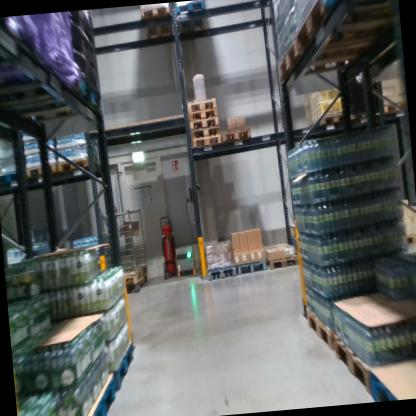pallet: (269, 24, 396, 78), (294, 0, 398, 59), (0, 68, 108, 122), (326, 317, 397, 399), (135, 3, 180, 49), (76, 370, 121, 416), (303, 300, 335, 361), (175, 2, 213, 46), (368, 369, 416, 400), (110, 345, 138, 398), (263, 246, 309, 278), (303, 109, 353, 133), (113, 261, 151, 292), (201, 256, 240, 286), (55, 152, 96, 177), (20, 161, 55, 189), (235, 256, 270, 279), (222, 126, 257, 146), (183, 95, 218, 115), (0, 165, 22, 191), (190, 117, 222, 134), (187, 108, 222, 123), (380, 97, 406, 117), (192, 126, 223, 142), (192, 135, 222, 147), (406, 233, 416, 251)
